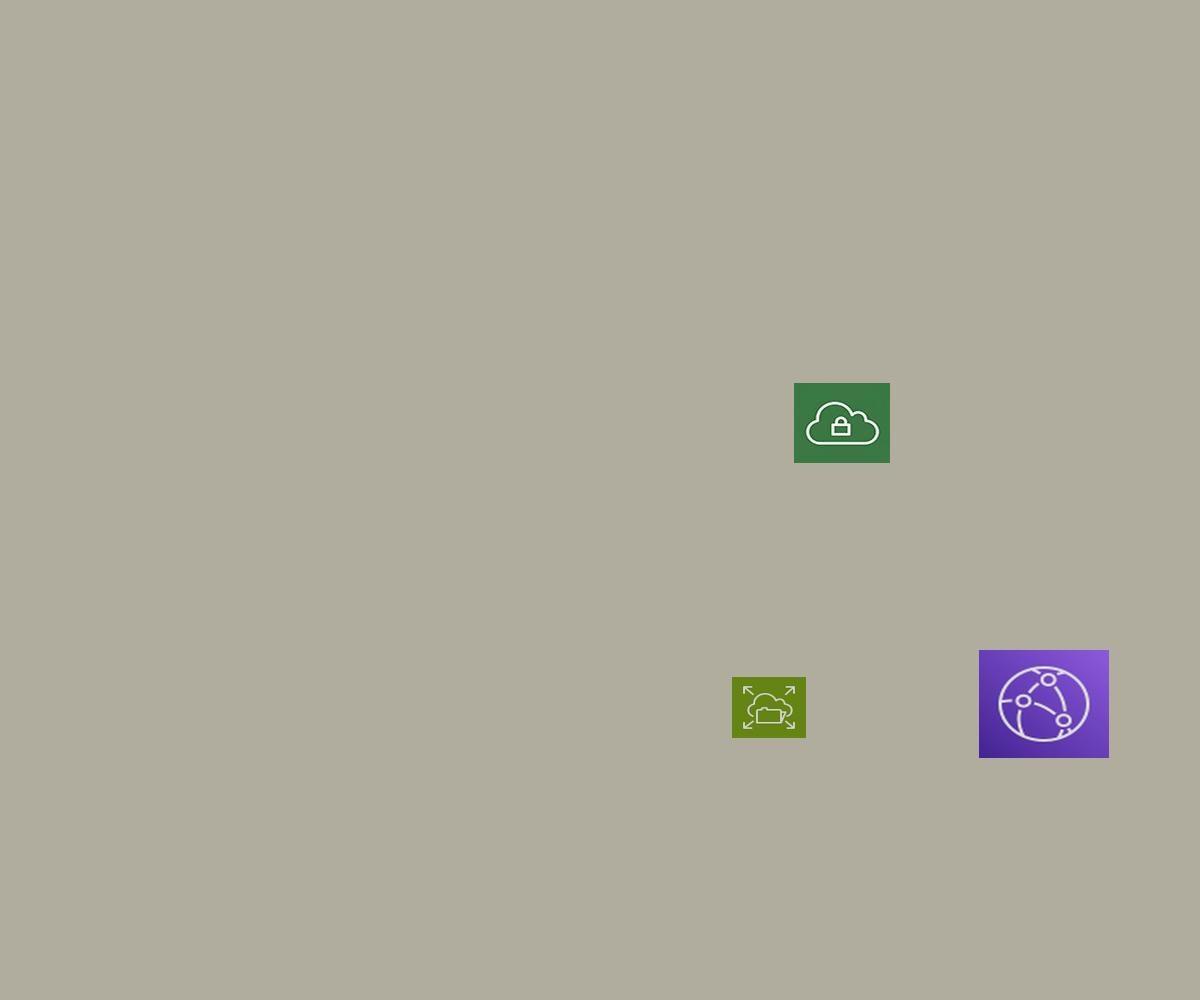AWS-CloudFront: (979, 650, 1109, 758)
AWS-EFS: (732, 677, 806, 738)
AWS-Private_vpc: (794, 383, 890, 463)
